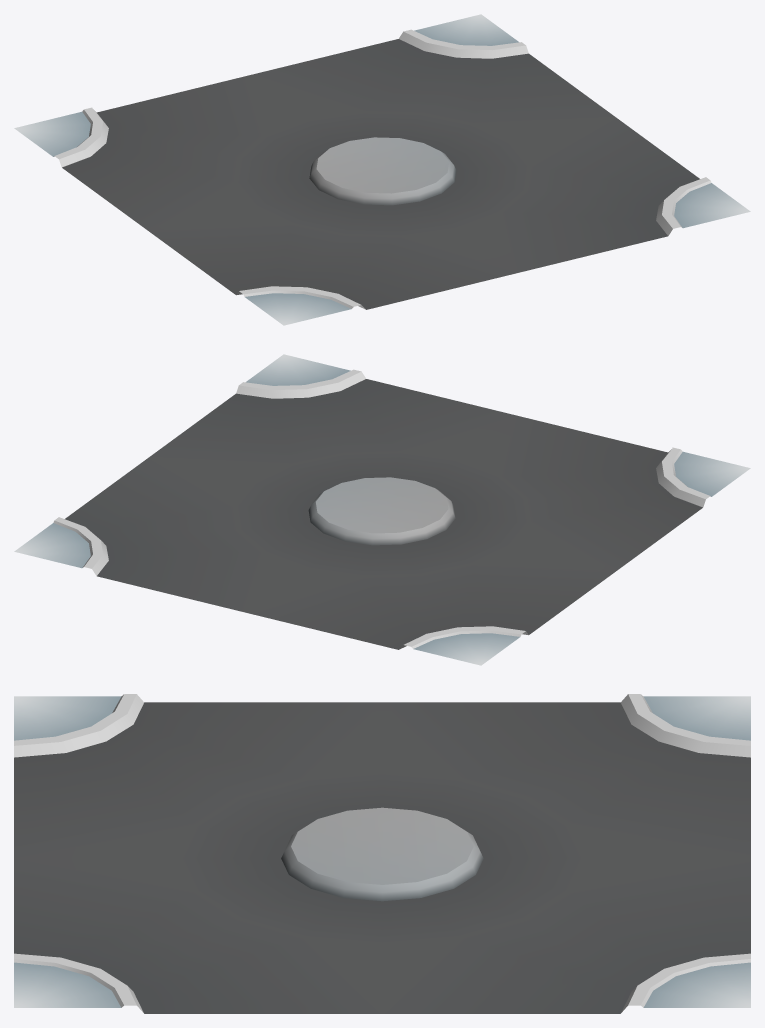
The model's file is BRoad03.fbx.
The picture shows the model from 3 angles, top to bottom: view 1: azimuth 30°, elevation 25°; view 2: azimuth 150°, elevation 25°; view 3: azimuth 270°, elevation 25°; orthographic projection. The views are drawn at different scales.
Visible parts, largest first — view 1: BRoad03; view 2: BRoad03; view 3: BRoad03.
Part boxes in pixels (left/top/right/bottom): BRoad03: left=14, top=14, right=750, bottom=325; BRoad03: left=14, top=354, right=750, bottom=665; BRoad03: left=14, top=694, right=750, bottom=1013.
Size of the model in its own units: 3 by 0.0545 by 3.
